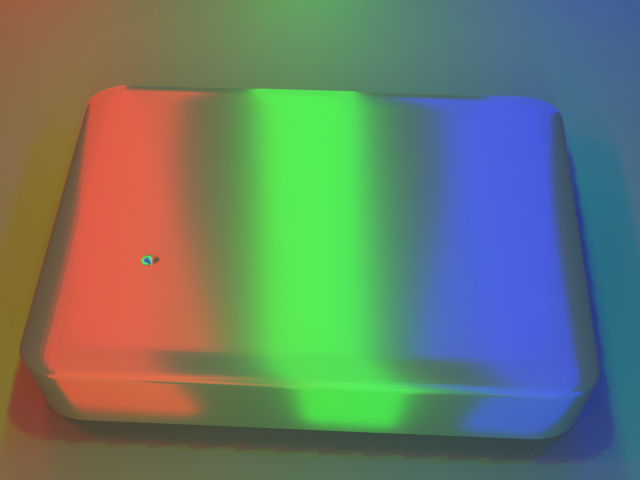dent: (110, 243, 154, 278)
